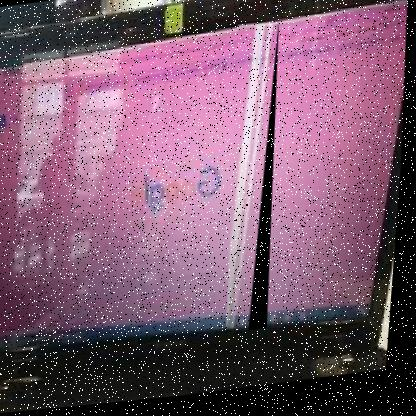lines: (219, 22, 290, 340)
